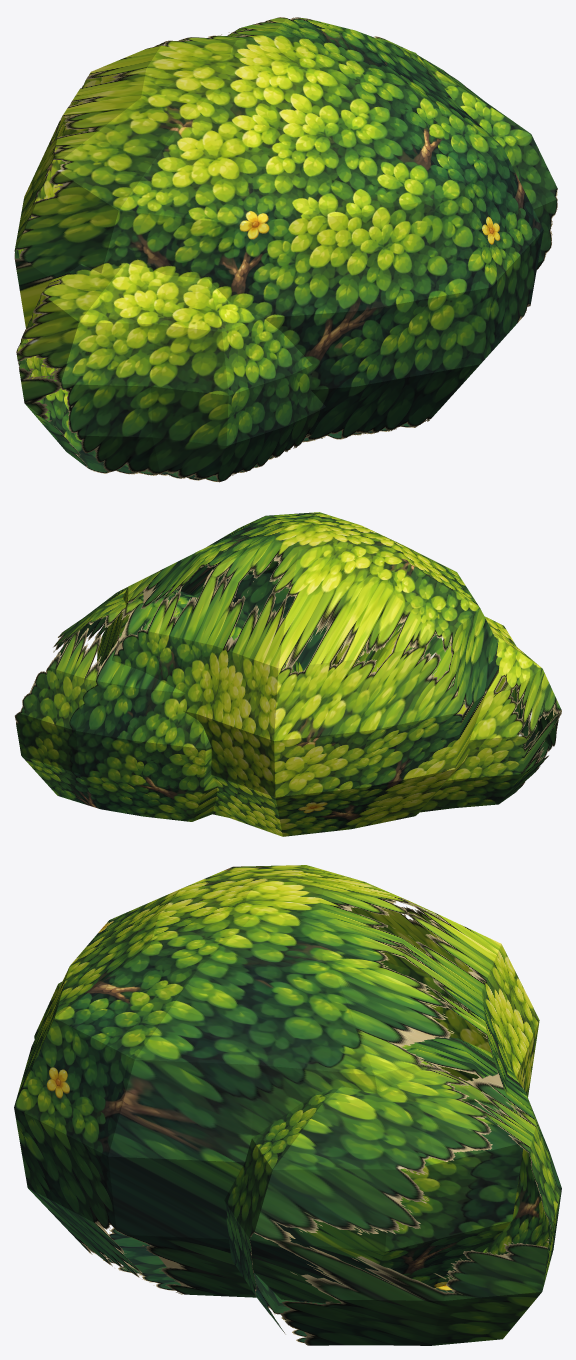
Rendered from bush_a.glb.
3 views of the same model, one above another, from view 1: azimuth 30°, elevation 25°; view 2: azimuth 150°, elevation 25°; view 3: azimuth 270°, elevation 25° (orthographic). The views are drawn at different scales.
Visible parts, largest first — view 1: bush_a_game; view 2: bush_a_game; view 3: bush_a_game.
Part boxes in pixels (x1,y1,x2,y2): bush_a_game: (14, 17, 557, 482); bush_a_game: (14, 512, 561, 836); bush_a_game: (14, 865, 561, 1345).
Bounding box in the file's own units: 2.16 × 1.2 × 1.8.
1 material, 1 textured.
